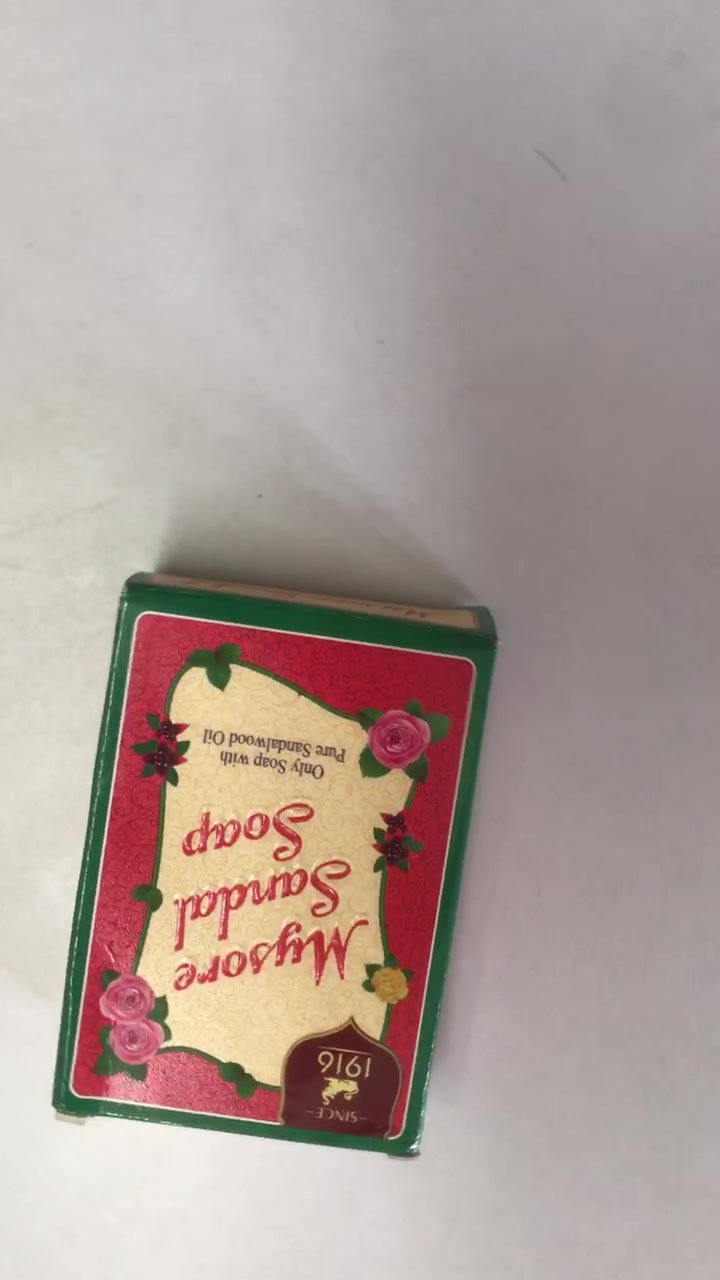mysore sandal soap: (60, 566, 506, 1164)
